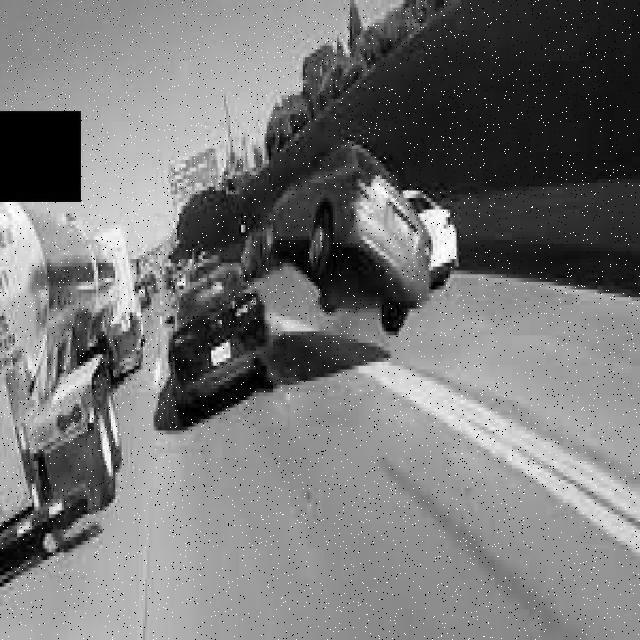accident: (263, 130, 436, 340)
vehicle: (0, 170, 148, 588), (158, 265, 284, 421)
